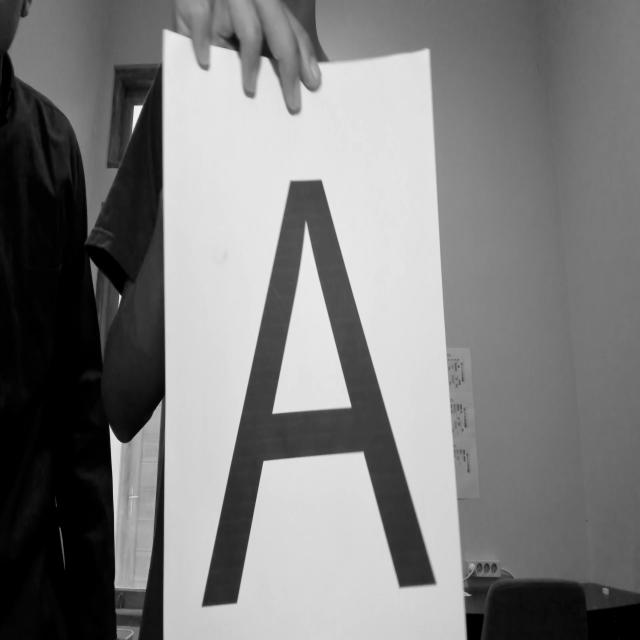a: (189, 151, 456, 624)
